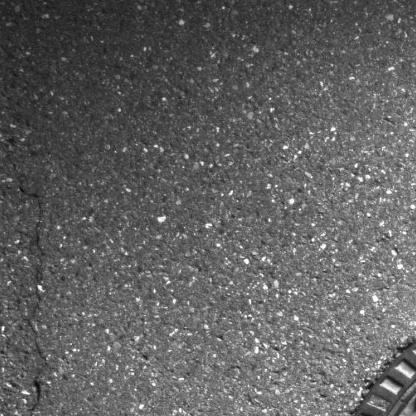Cracks: (15, 181, 65, 416)
